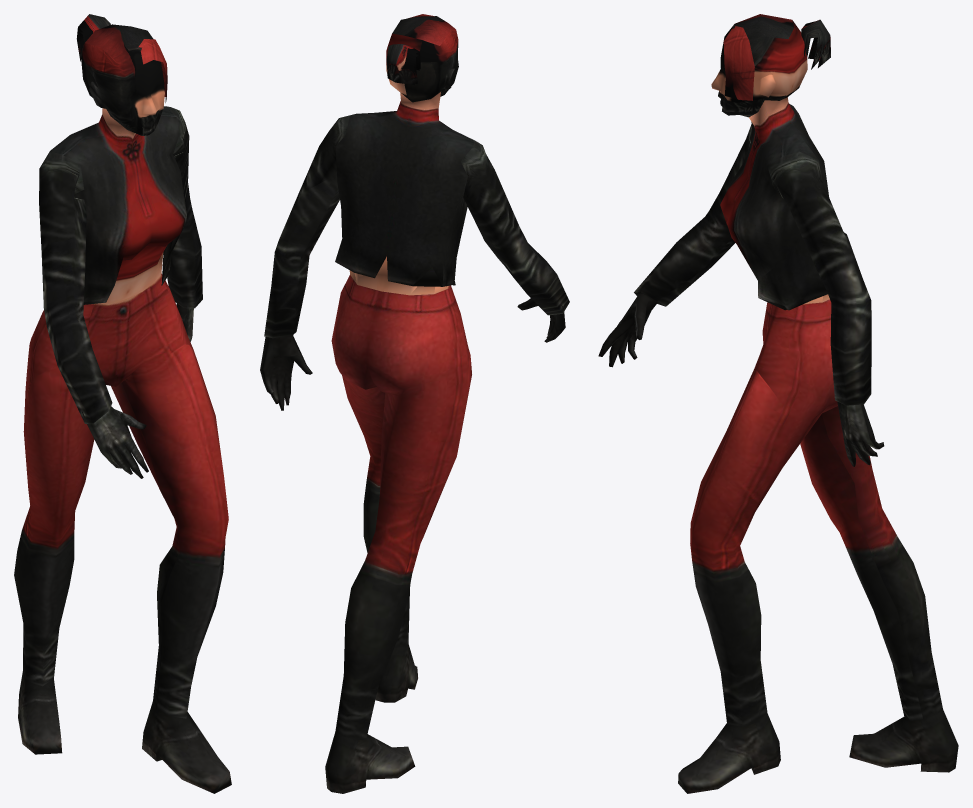
3 renders of one model, left to right at view 1: azimuth 30°, elevation 25°; view 2: azimuth 150°, elevation 25°; view 3: azimuth 270°, elevation 25°, orthographic. The views are drawn at different scales.
Visible parts, largest first — view 1: SketchUp (×5); view 2: SketchUp (×5); view 3: SketchUp (×6).
Boxes of the visible parts, box(x1,y1,x2,y2) form: SketchUp (×5): box(14, 14, 231, 793); SketchUp (×5): box(260, 16, 569, 793); SketchUp (×6): box(598, 14, 958, 793).
Bounding box in the file's own units: 66.54 × 93.02 × 214.
Materials: 2 (2 with a texture image).
